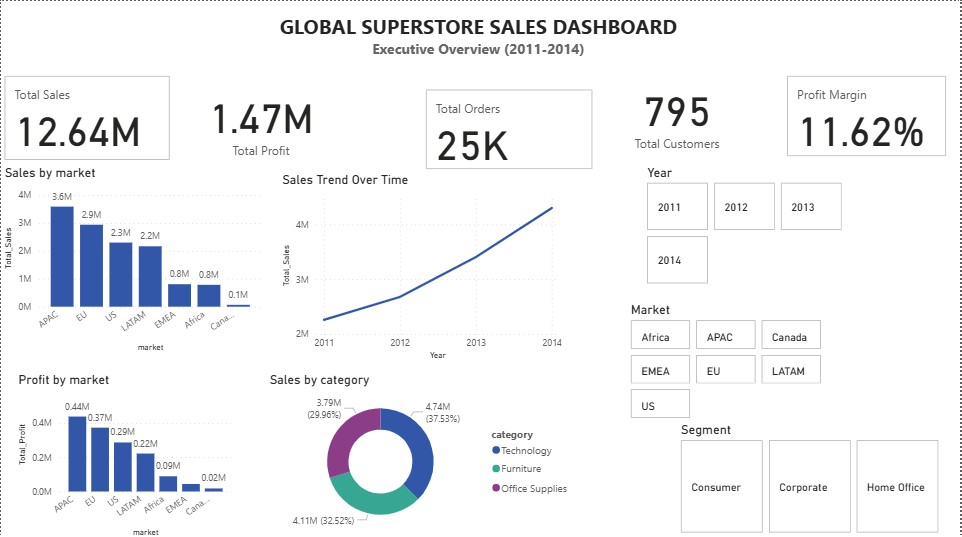

This screenshot's page, from the dashboard's own definition file:
{"tool":"powerbi","page":{"name":"Executive Overview","canvas":[1280,720],"ordinal":0},"visuals":[{"type":"cardVisual","fields":{"Data":["SuperStore_Orders.Total_Sales"]},"box":[0,95.3,230.2,122.1],"z":0},{"type":"card","fields":{"Values":["SuperStore_Orders.Total_Profit"]},"box":[230.2,104.7,233.7,112.8],"z":1000},{"type":"cardVisual","fields":{"Data":["SuperStore_Orders.Total_Orders"]},"box":[561.6,112.8,232.6,116.3],"z":2000},{"type":"card","fields":{"Values":["SuperStore_Orders.Total_Customers"]},"box":[789.5,95.3,223.3,112.8],"z":3000},{"type":"cardVisual","fields":{"Data":["SuperStore_Orders.Profit_Margin"]},"box":[1043,95.3,222.1,117.4],"z":4000},{"type":"clusteredColumnChart","title":"Profit by market","fields":{"Category":["SuperStore_Orders.market"],"Y":["SuperStore_Orders.Total_Profit"]},"box":[18.3,495,295,225],"z":5000},{"type":"donutChart","title":"Sales by category","fields":{"Y":["SuperStore_Orders.Total_Sales"],"Category":["SuperStore_Orders.category"]},"box":[353.3,494.9,415.6,219.5],"z":6000},{"type":"lineChart","title":"Sales Trend Over Time","fields":{"Category":["SuperStore_Orders.order_date.Variation.Date Hierarchy.Year","SuperStore_Orders.order_date.Variation.Date Hierarchy.Month"],"Y":["SuperStore_Orders.Total_Sales"]},"box":[369.8,229.1,382.6,255.8],"z":7000},{"type":"clusteredColumnChart","title":"Sales by market","fields":{"Category":["SuperStore_Orders.market"],"Y":["SuperStore_Orders.Total_Sales"]},"box":[0,217.9,353.3,255.3],"z":8000},{"type":"advancedSlicerVisual","title":"Year","fields":{"Values":["SuperStore_Orders.order_date.Variation.Date Hierarchy.Year"]},"box":[856,217.9,269.3,165],"z":9000},{"type":"advancedSlicerVisual","title":"Market","fields":{"Values":["SuperStore_Orders.market"]},"box":[835.8,401.6,264.6,160.3],"z":10000},{"type":"advancedSlicerVisual","title":"Segment","fields":{"Values":["SuperStore_Orders.segment"]},"box":[901.2,561.9,353.3,152.5],"z":11000},{"type":"textbox","box":[347.5,10,576.2,72.5],"z":13000}]}

Visuals, with their boxes in screenshot pixels (x1, y1, x2, y2), scaled from the page's 1280x720 canvas onto the 962x537 screenshot:
cardVisual - SuperStore_Orders.Total_Sales: select_region(0, 71, 173, 162)
card - SuperStore_Orders.Total_Profit: select_region(173, 78, 349, 162)
cardVisual - SuperStore_Orders.Total_Orders: select_region(422, 84, 597, 171)
card - SuperStore_Orders.Total_Customers: select_region(593, 71, 761, 155)
cardVisual - SuperStore_Orders.Profit_Margin: select_region(784, 71, 951, 159)
"Profit by market" clusteredColumnChart: select_region(14, 369, 235, 536)
"Sales by category" donutChart: select_region(266, 369, 578, 533)
"Sales Trend Over Time" lineChart: select_region(278, 171, 565, 362)
"Sales by market" clusteredColumnChart: select_region(0, 163, 266, 353)
"Year" advancedSlicerVisual: select_region(643, 163, 846, 286)
"Market" advancedSlicerVisual: select_region(628, 300, 827, 419)
"Segment" advancedSlicerVisual: select_region(677, 419, 943, 533)
textbox: select_region(261, 7, 694, 62)
